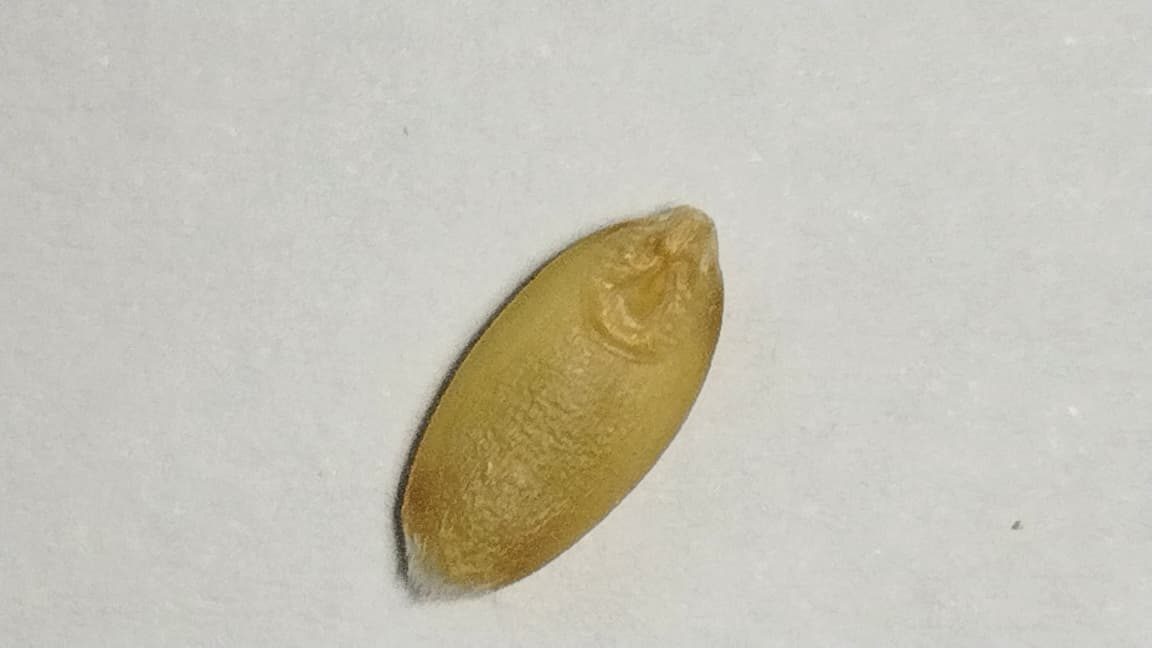healthy: (394, 206, 723, 599)
